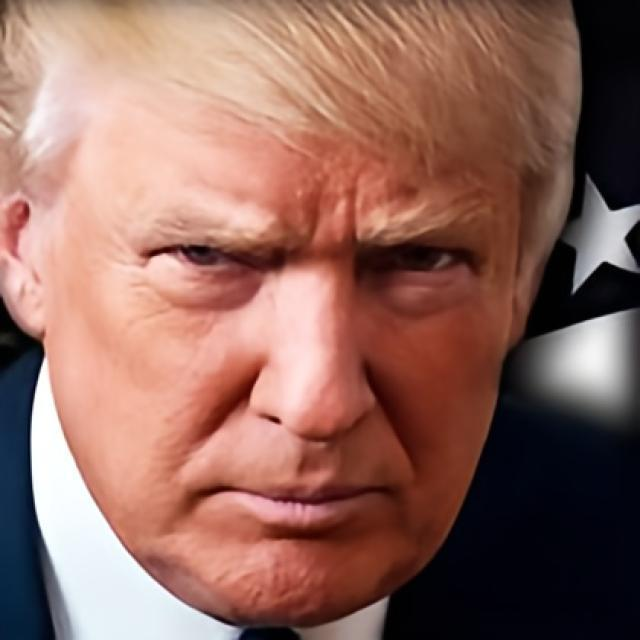anger: (81, 34, 512, 620)
